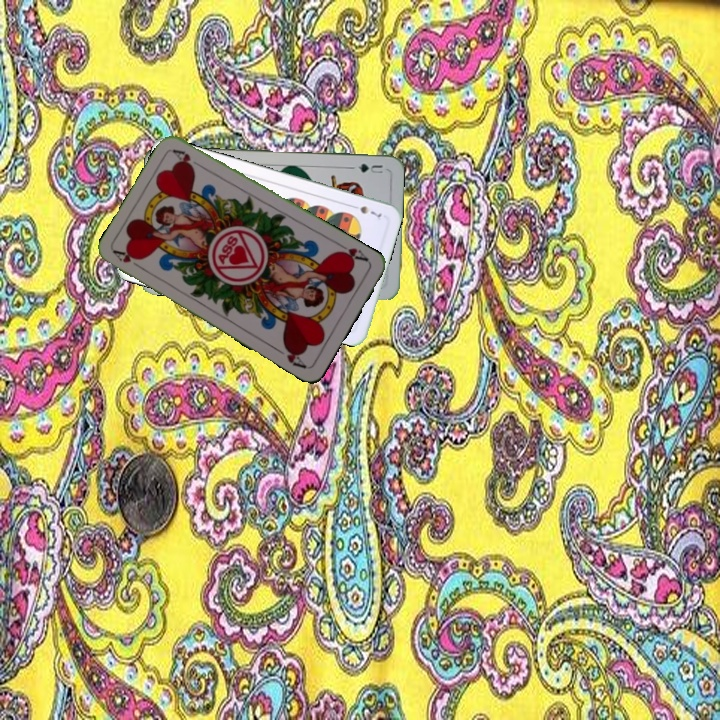GU: (354, 160, 386, 175)
HA: (332, 239, 372, 265), (110, 246, 147, 273)
S7: (347, 201, 384, 220)
